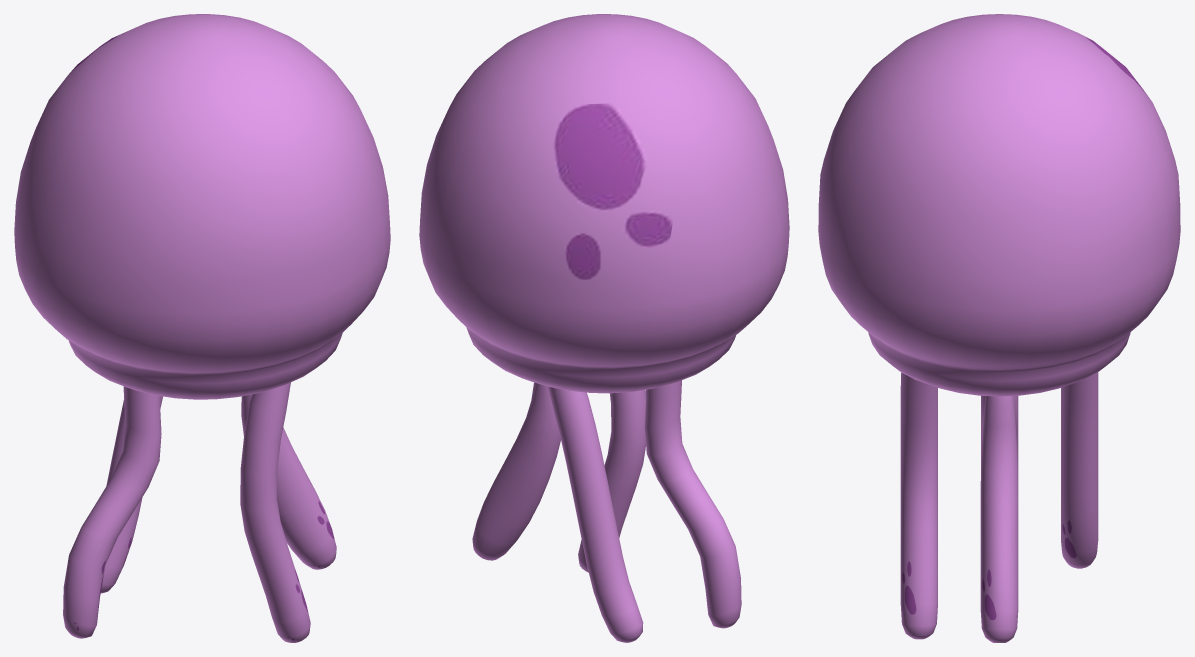
File: jellyfish.fbx
3 renders of one model, left to right at view 1: azimuth 30°, elevation 25°; view 2: azimuth 150°, elevation 25°; view 3: azimuth 270°, elevation 25°, orthographic.
Visible parts, largest first — view 1: jellyfish; view 2: jellyfish; view 3: jellyfish.
Part boxes in pixels (x1,y1,x2,y2): jellyfish: (14, 14, 390, 642); jellyfish: (419, 14, 789, 642); jellyfish: (818, 14, 1180, 642).
Size of the model in its own units: 466 by 804 by 451.
Materials: 1 (1 with a texture image).
